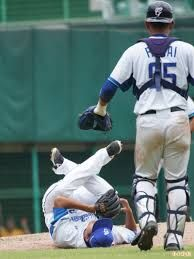fall: (41, 134, 150, 252)
